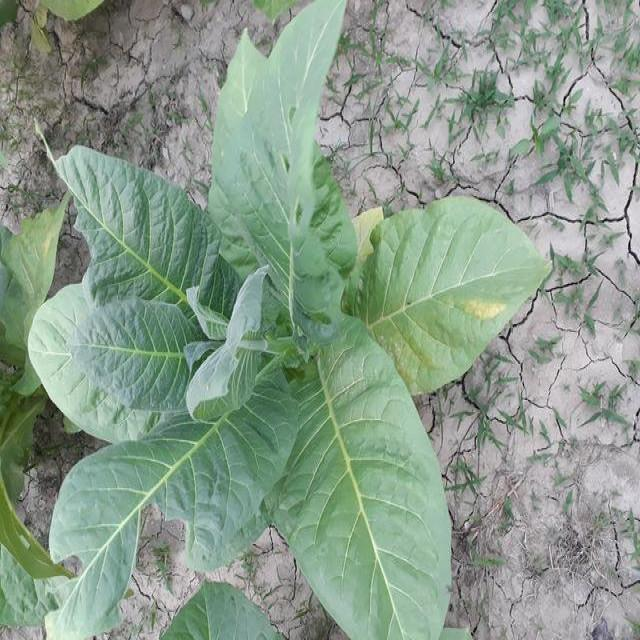crop: (35, 17, 538, 636)
